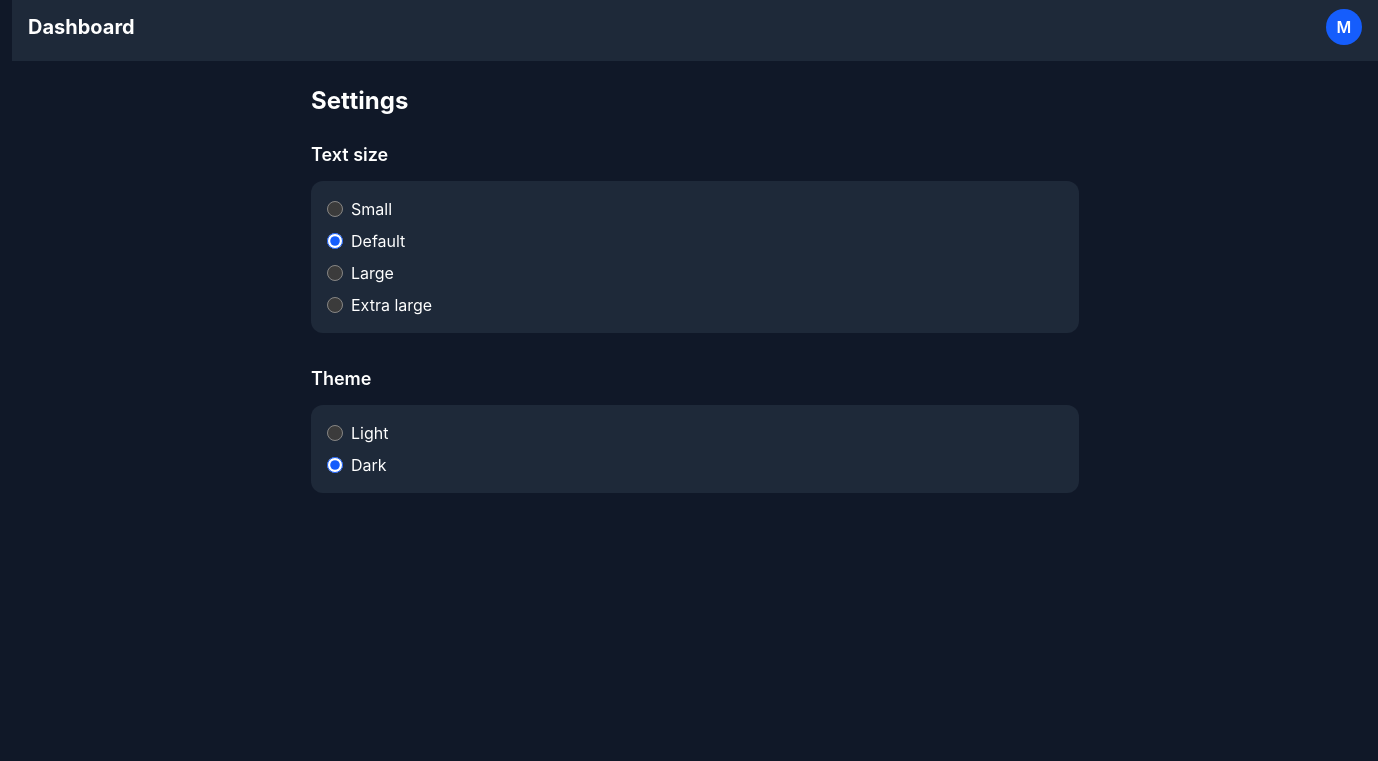
Test: the app name brings back to the dashboard from another page
What coordinates should you click on to do the following:
click the link "Dashboard"
I would click on:
 (81, 27)
Its box is x1=28 y1=13 x2=135 y2=41.
(page scrolled)
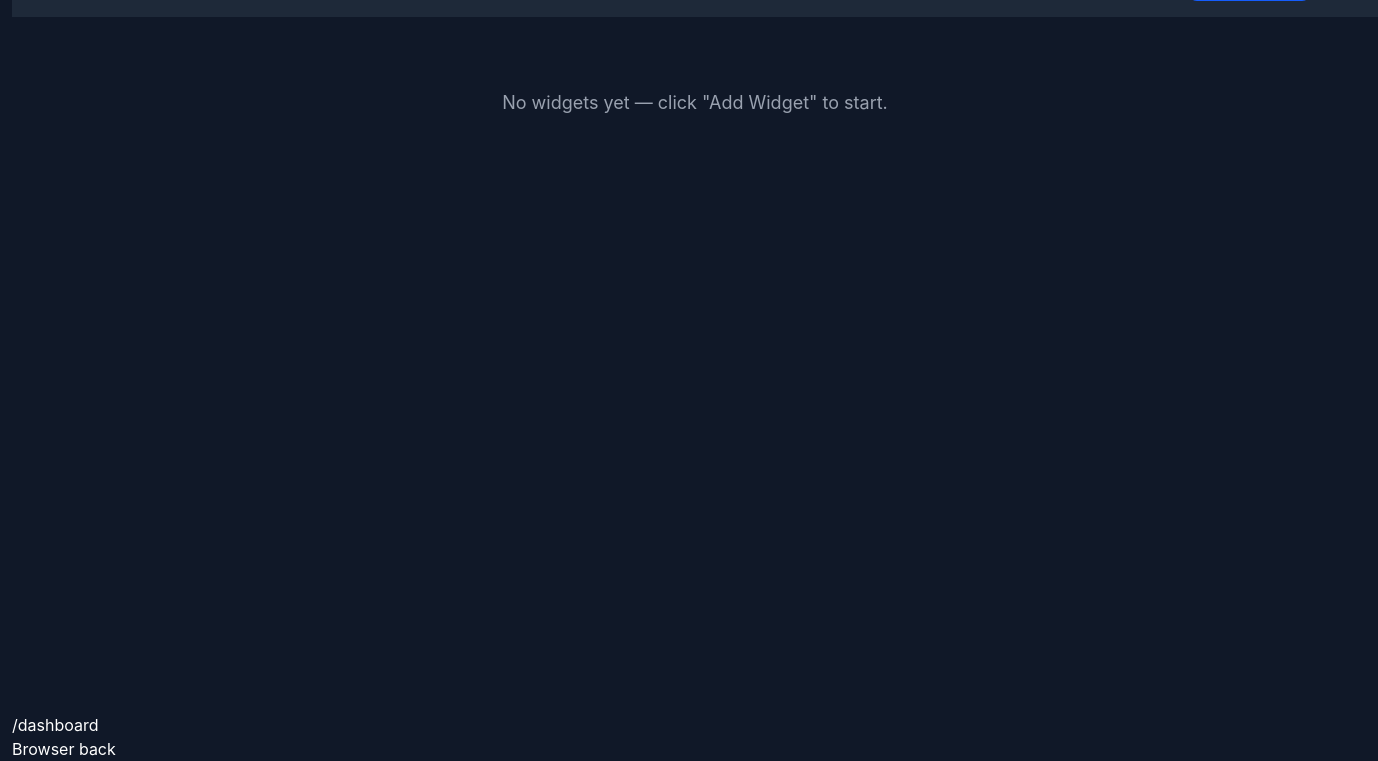
Now the text with test id "address" reads "/dashboard", box x1=12 y1=715 x2=98 y2=735
